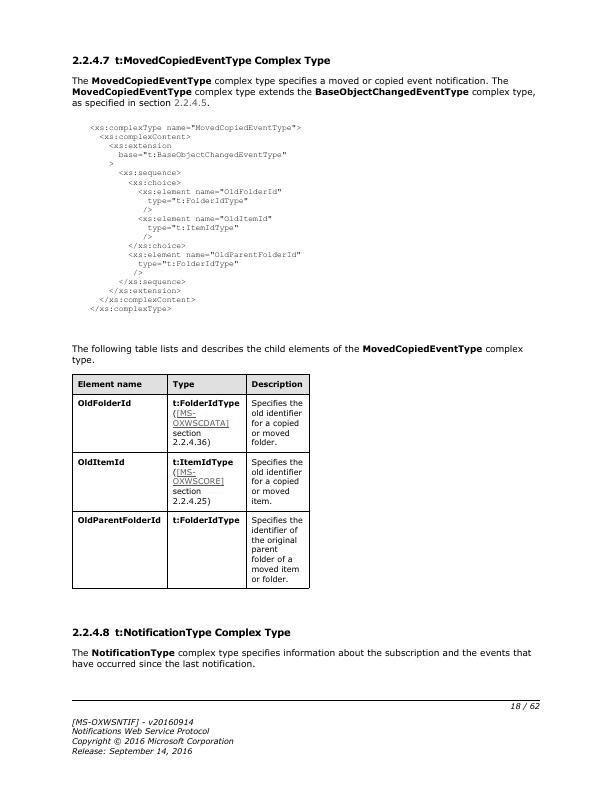table: (68, 371, 314, 591)
text: (83, 122, 306, 317), (68, 74, 537, 110), (67, 646, 534, 671), (68, 341, 523, 366), (67, 714, 236, 760), (68, 50, 331, 68), (68, 625, 294, 642)
